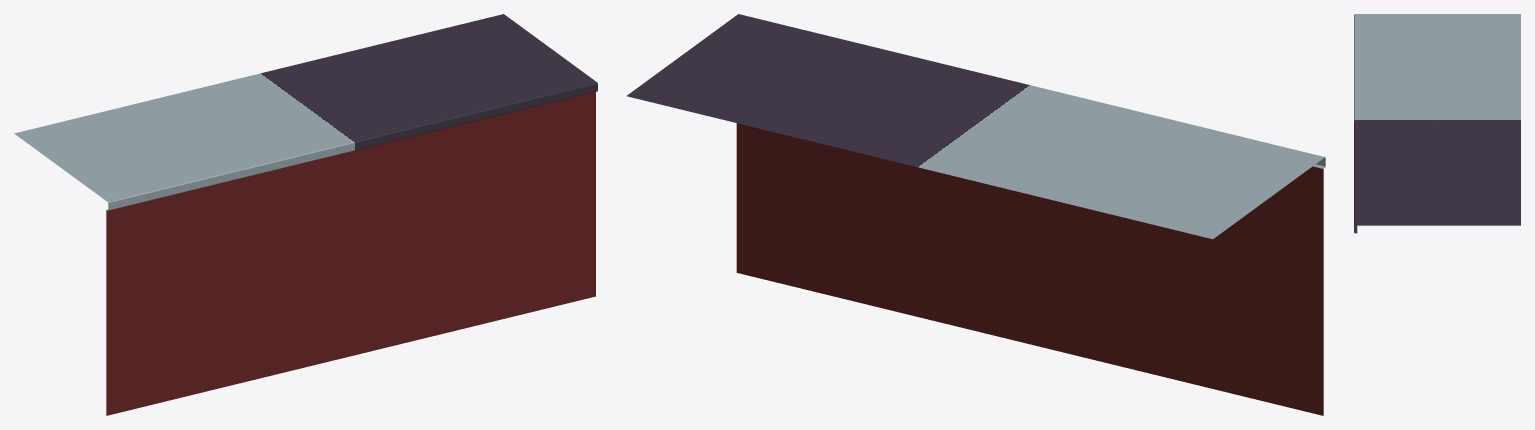
Rendered from Countertop.fbx.
3 views of the same model, side by side, from view 1: azimuth 30°, elevation 25°; view 2: azimuth 150°, elevation 25°; view 3: azimuth 270°, elevation 25° (orthographic). The views are drawn at different scales.
Visible parts, largest first — view 1: Plane; view 2: Plane; view 3: Plane.
Part boxes in pixels (x1,y1,x2,y2): Plane: (14,14,597,415); Plane: (626,14,1325,415); Plane: (1354,14,1520,233).
Bounding box in the file's own units: 613 × 257 × 204.
